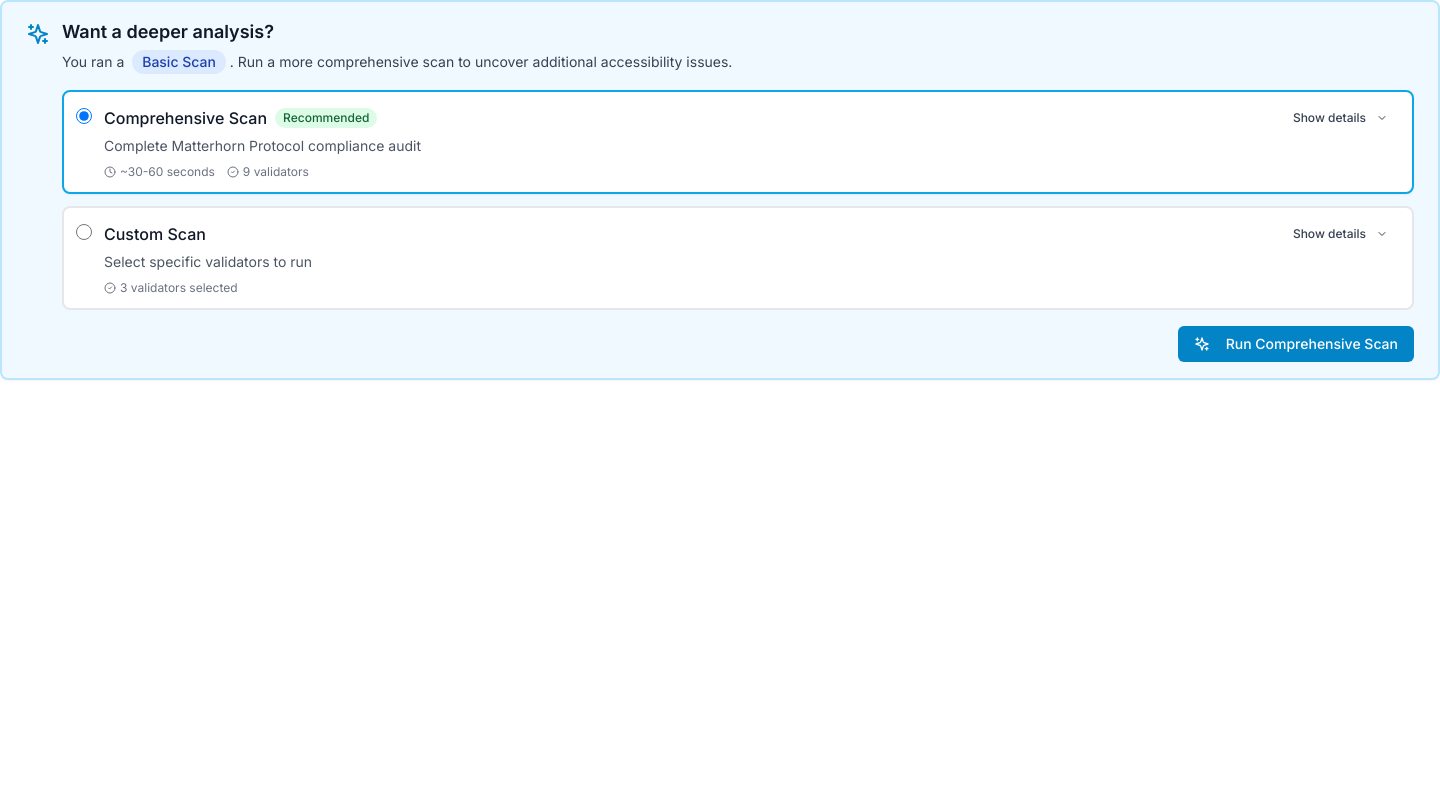
Test: ScanLevelBanner › expands comprehensive details when show details clicked
# Click show details for comprehensive
Click the button "Show details" in the row of "Recommended" at (1340, 118), box x1=1281 y1=104 x2=1400 y2=132
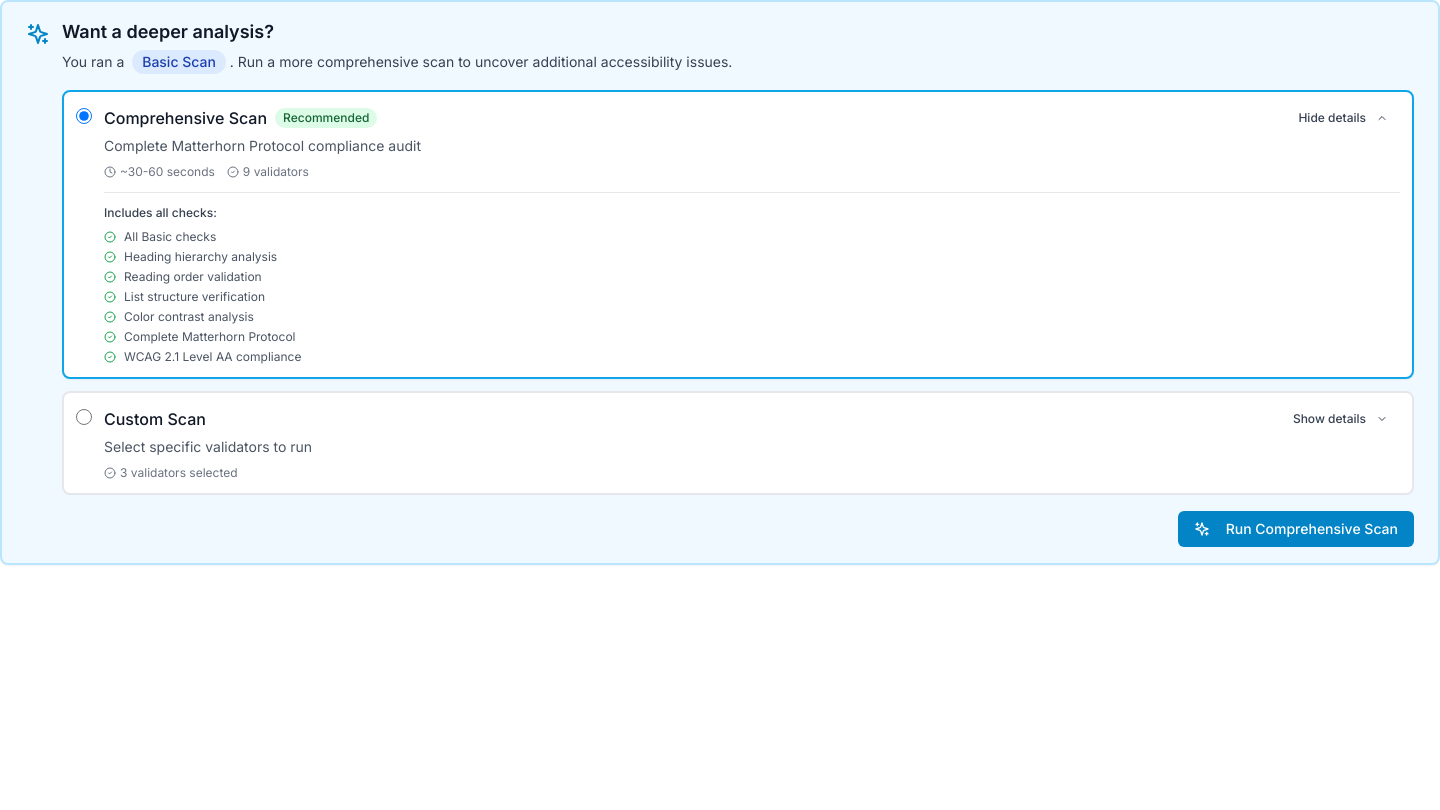
Expected: the text "All Basic checks" is shown, x1=124 y1=229 x2=216 y2=245
Expected: the text "Heading hierarchy analysis" is shown, x1=124 y1=249 x2=277 y2=265
